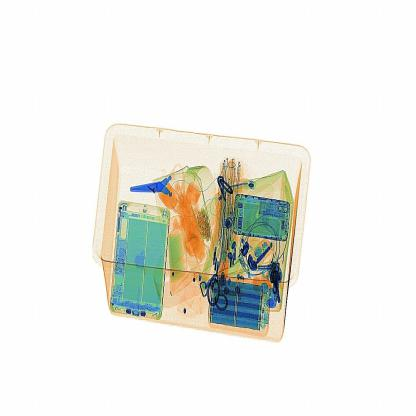gun: (126, 154, 199, 212)
